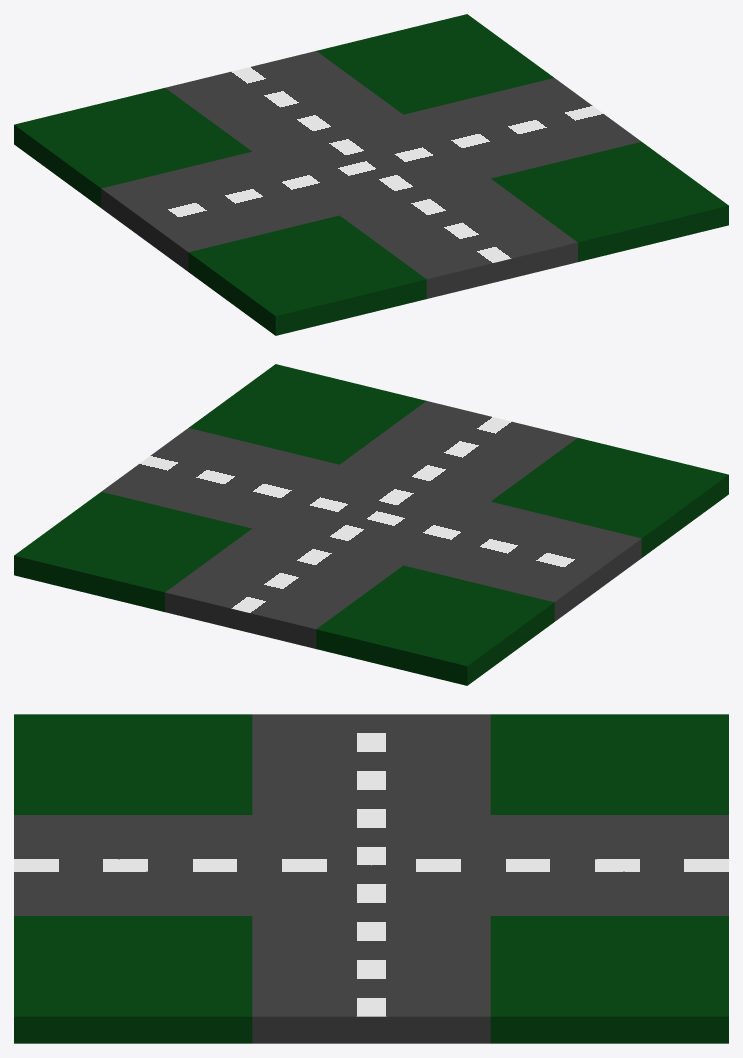
File: road.gltf
3 views of the same model, one above another, from view 1: azimuth 30°, elevation 25°; view 2: azimuth 150°, elevation 25°; view 3: azimuth 270°, elevation 25° (orthographic). The views are drawn at different scales.
Visible parts, largest first — view 1: cube (×7); view 2: cube (×7); view 3: cube (×7).
Boxes of the visible parts, x1=… form: cube (×7): x1=14, y1=14, x2=728, y2=335; cube (×7): x1=14, y1=364, x2=728, y2=685; cube (×7): x1=14, y1=714, x2=728, y2=1043.
Size of the model in its own units: 3 by 0.125 by 3.
Materials: 7 (7 with a texture image).
